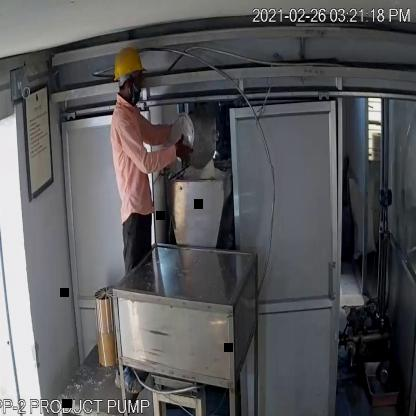helmet: (109, 46, 147, 82)
